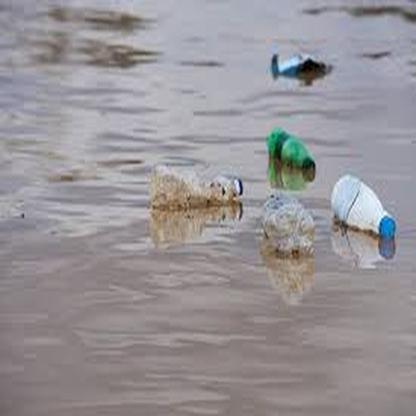plastic bottle: (150, 165, 245, 210), (331, 173, 395, 238), (259, 192, 314, 257), (268, 129, 317, 171)
